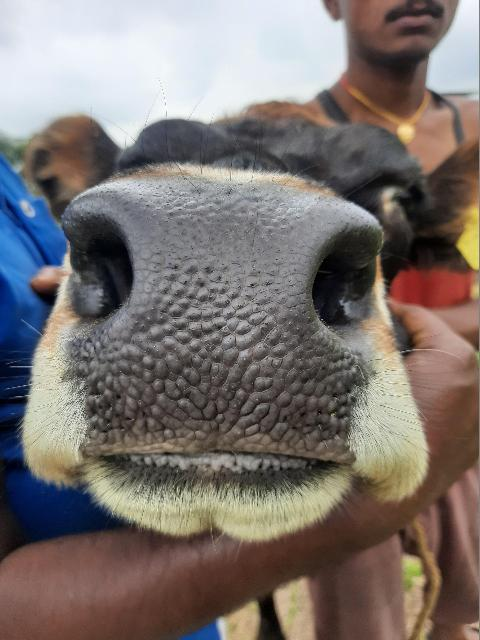Muzzle: (96, 191, 340, 453)
